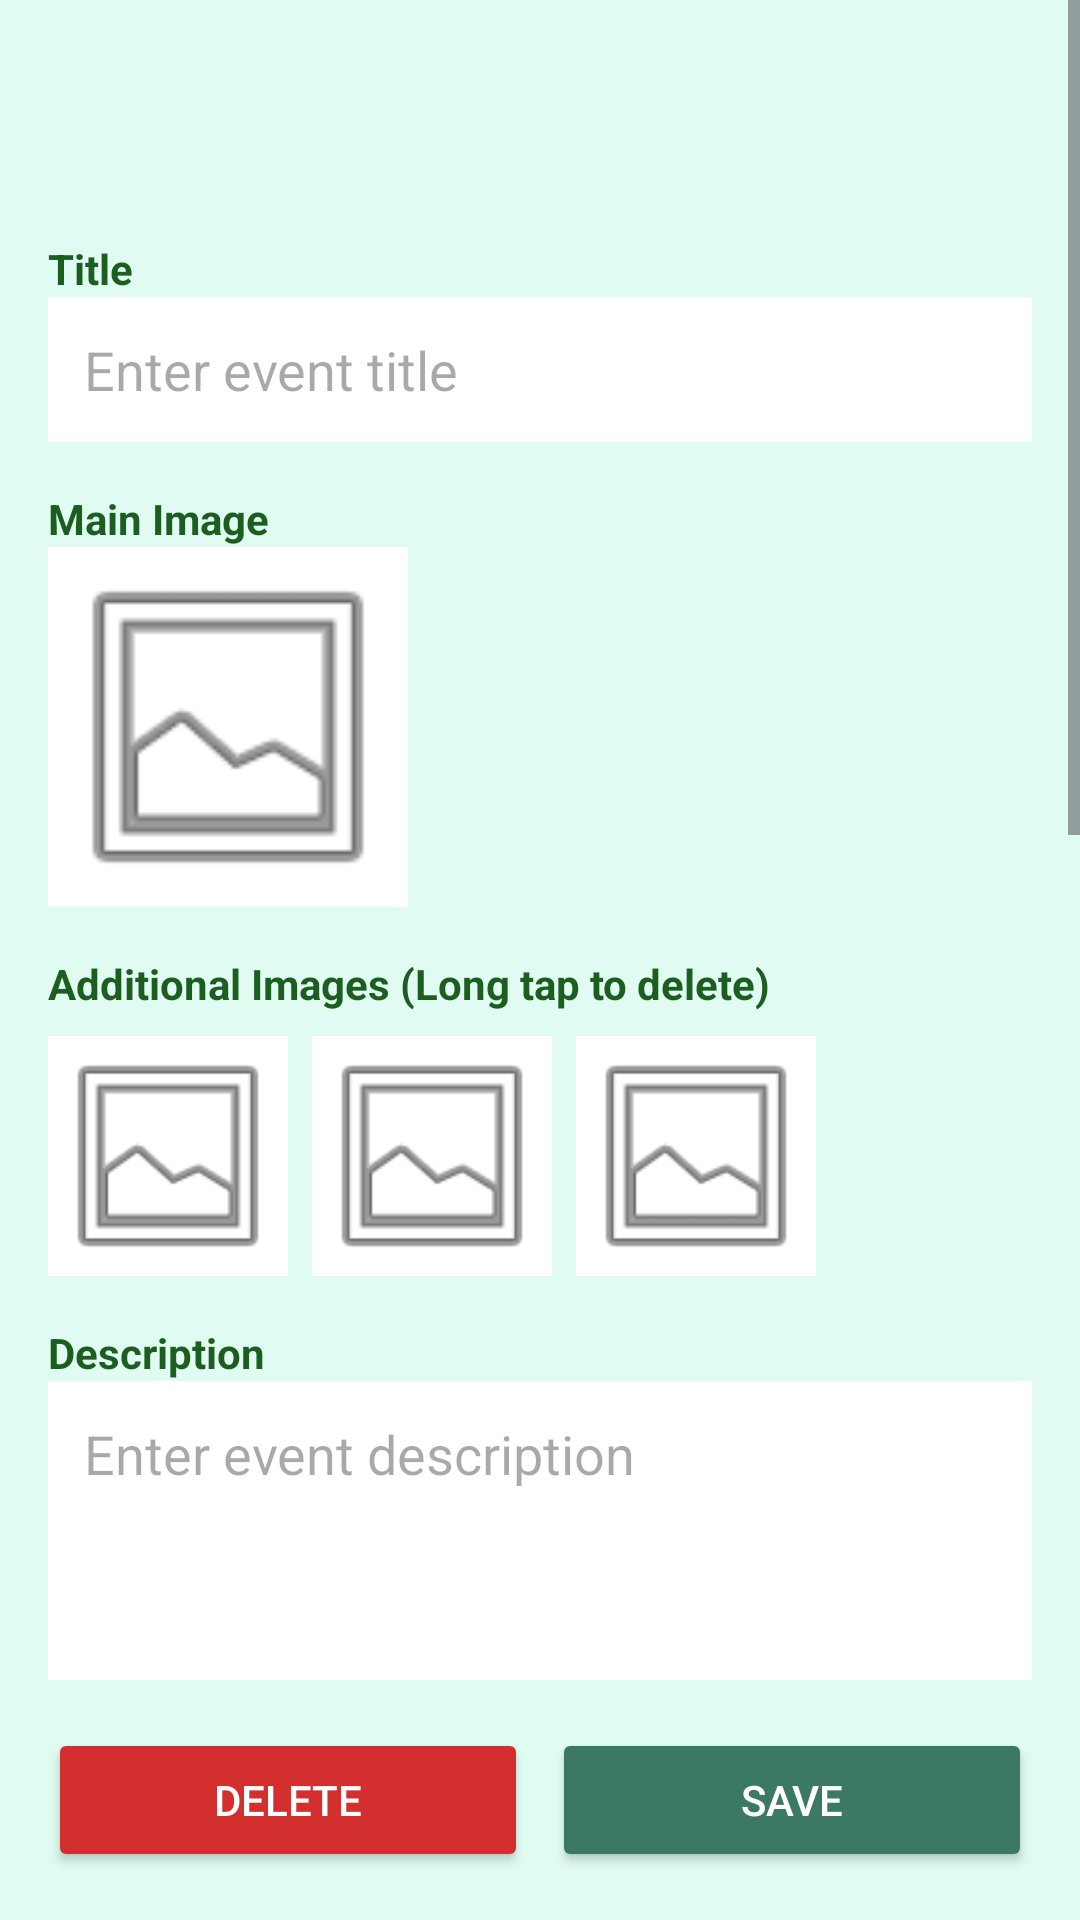

Named icons in this screenshot (1080px×1920px) and their bounding boxes, (x1, y1, x2, y2):
gallery: (48, 547, 408, 907), (48, 1036, 288, 1276), (312, 1036, 552, 1276), (576, 1036, 816, 1276)
